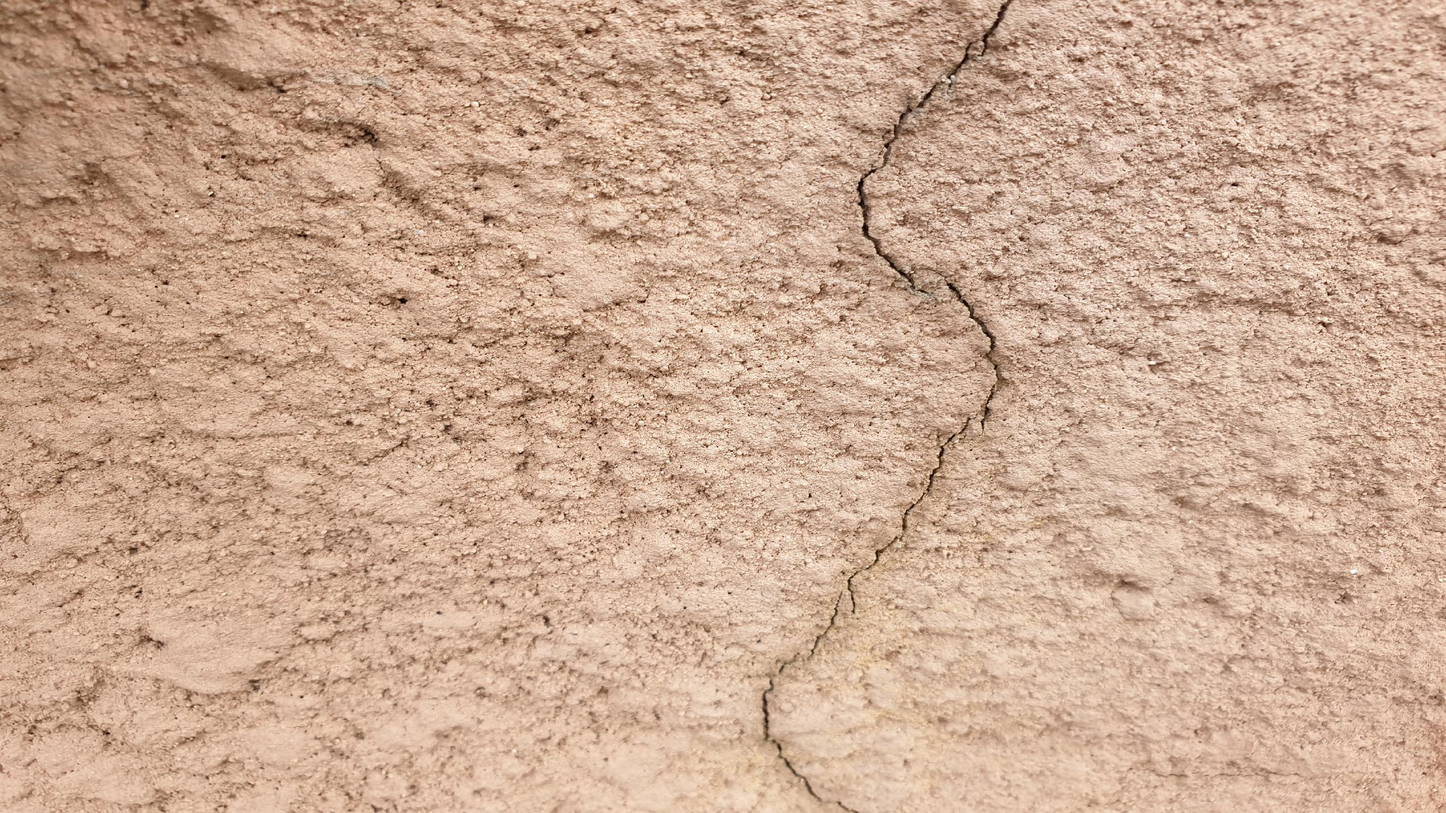crack: (847, 418, 970, 612), (857, 81, 936, 294), (761, 653, 858, 812), (947, 283, 997, 378), (810, 591, 842, 656), (979, 0, 1014, 55), (946, 39, 972, 78), (981, 381, 997, 429)
